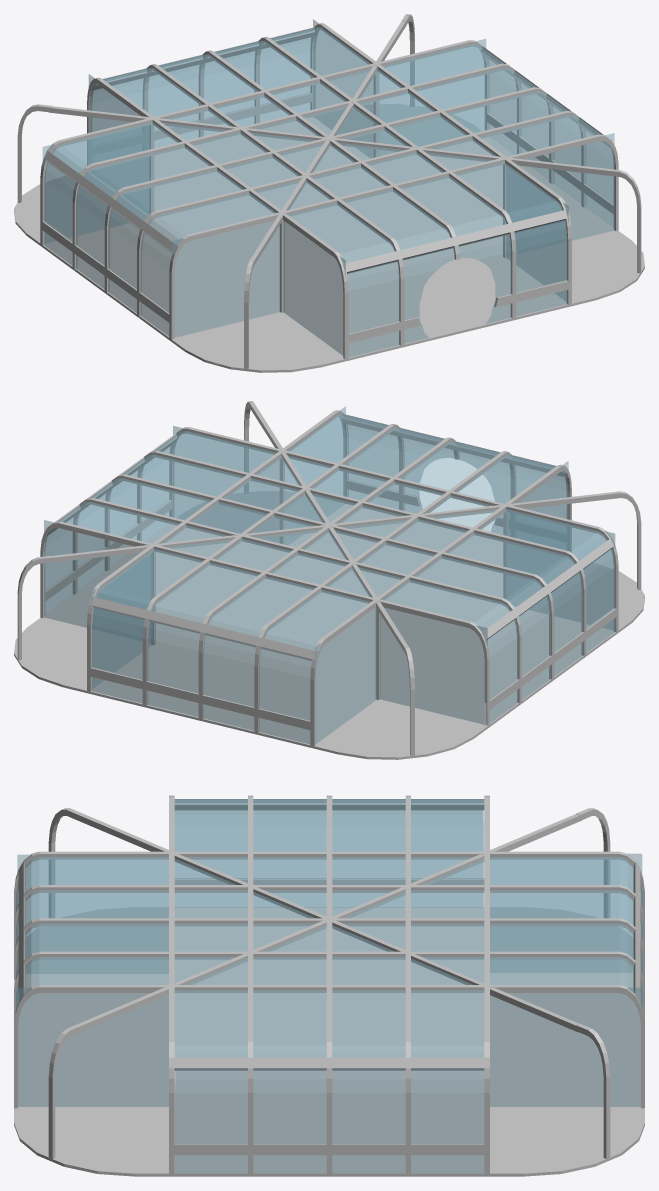
File: Greenhouse.obj
The picture shows the model from 3 angles, top to bottom: view 1: azimuth 30°, elevation 25°; view 2: azimuth 150°, elevation 25°; view 3: azimuth 270°, elevation 25°; orthographic projection. The views are drawn at different scales.
Parts seen in each view (by area): view 1: GreenHouse; view 2: GreenHouse; view 3: GreenHouse.
Part boxes in pixels (x1,y1,x2,y2): GreenHouse: [14, 14, 644, 372]; GreenHouse: [14, 401, 644, 759]; GreenHouse: [14, 795, 644, 1176].
Bounding box in the file's own units: 80.07 × 17.5 × 80.
